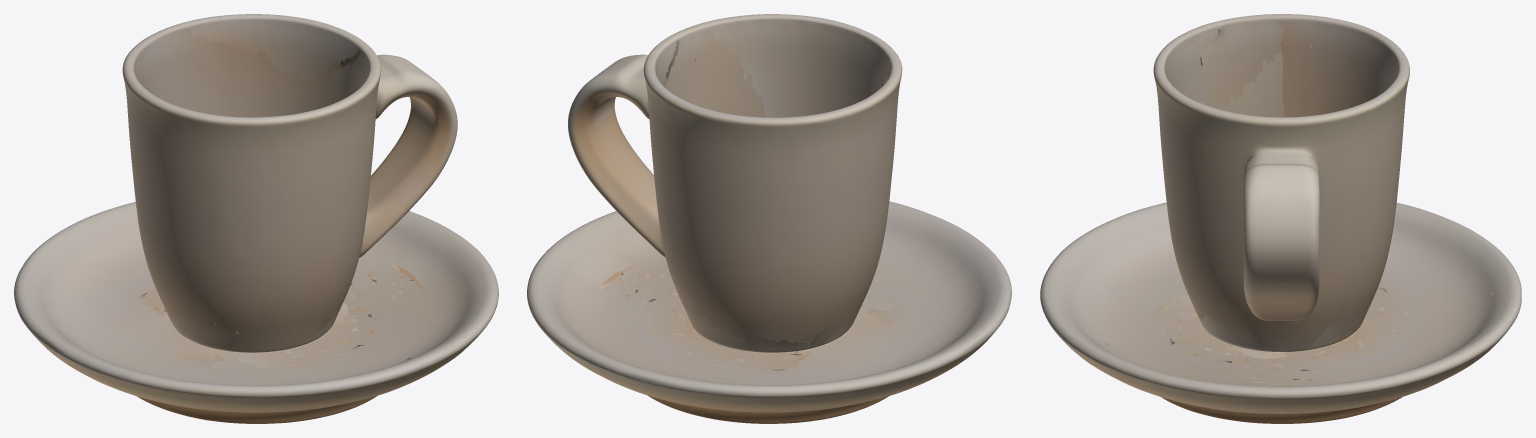
The model's file is foodify-mug-s75.glb.
The picture shows the model from 3 angles, left to right: view 1: azimuth 30°, elevation 25°; view 2: azimuth 150°, elevation 25°; view 3: azimuth 270°, elevation 25°; orthographic projection.
Visible parts, largest first — view 1: texture_pbr_v128; view 2: texture_pbr_v128; view 3: texture_pbr_v128.
Boxes of the visible parts, x1,y1,x2,y2 form: texture_pbr_v128: [14, 14, 498, 423]; texture_pbr_v128: [527, 14, 1011, 423]; texture_pbr_v128: [1040, 14, 1521, 423].
Size of the model in its own units: 1.12 by 0.7622 by 1.12.
1 material, 1 textured.
